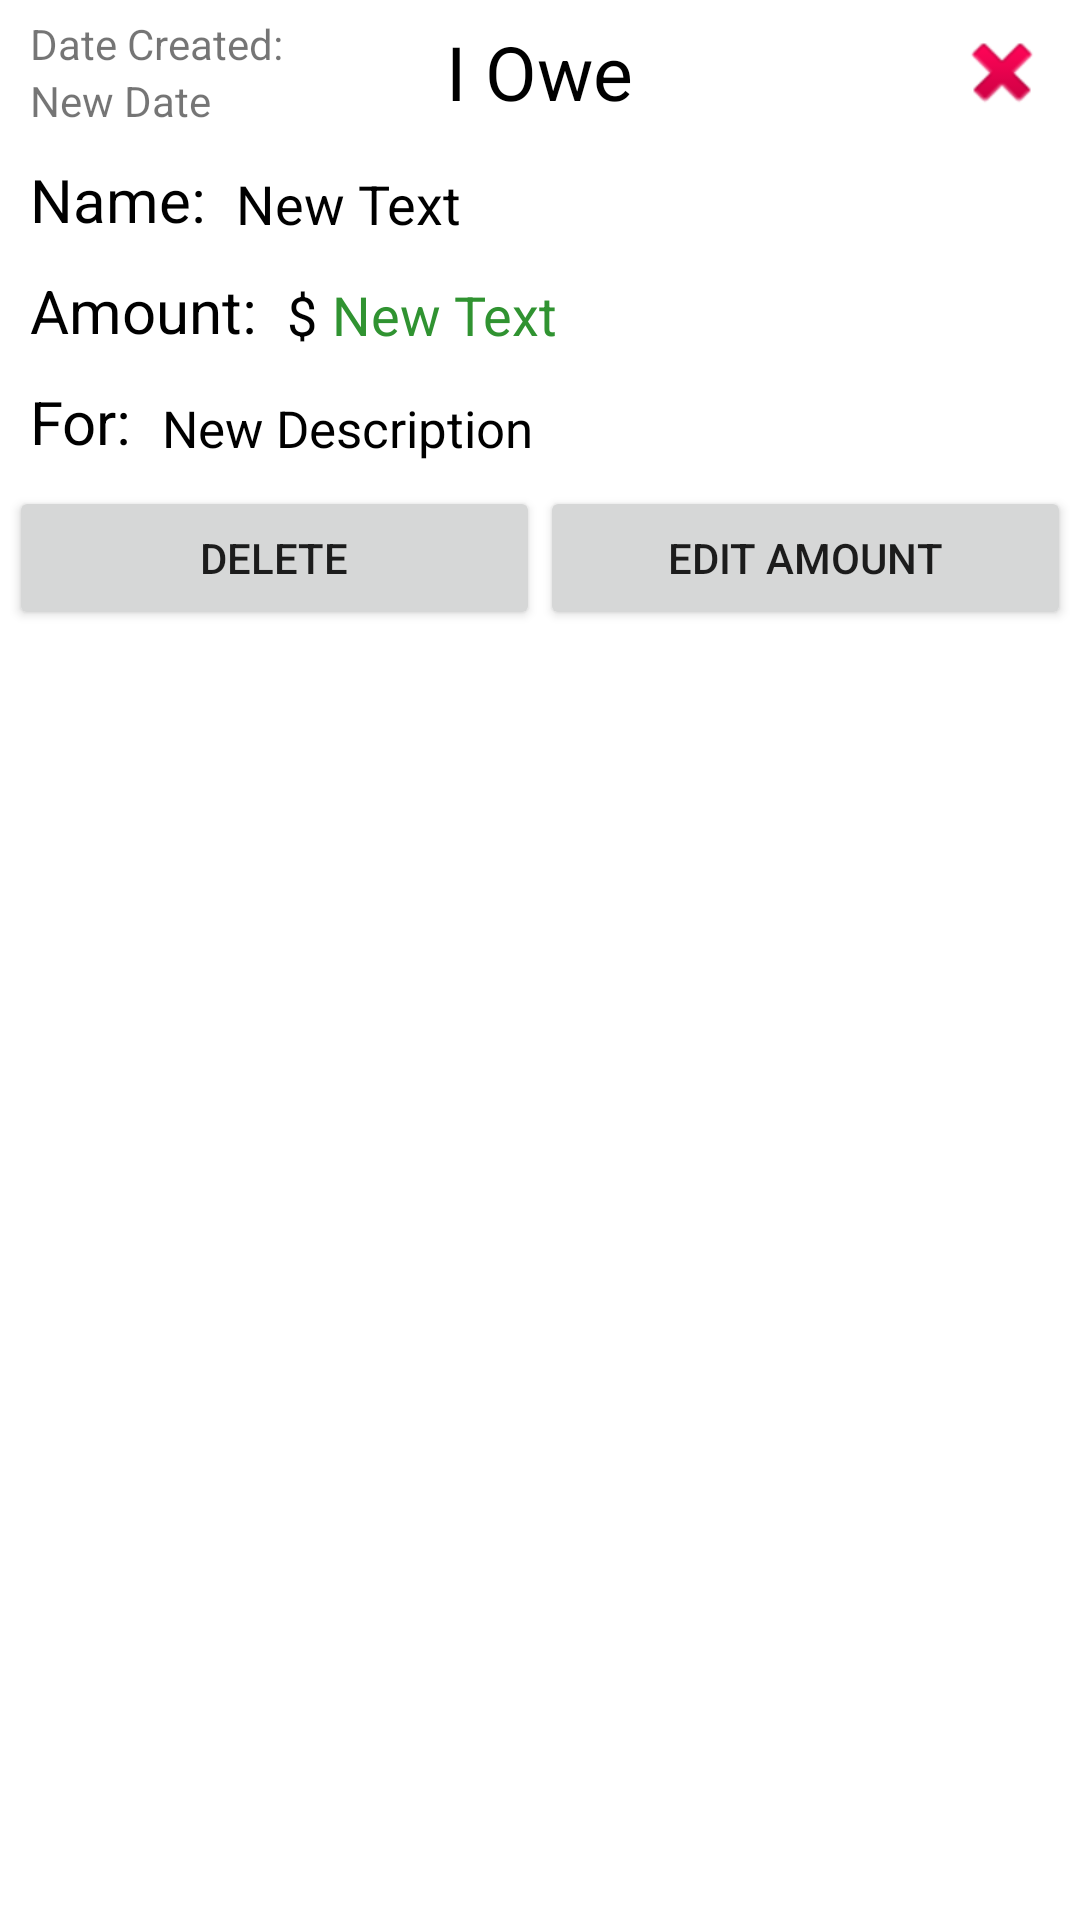

Where icons sit on this 1080px x 1920px app screen, as (x1, y1, x2, y2):
delete: (971, 43, 1033, 102)
